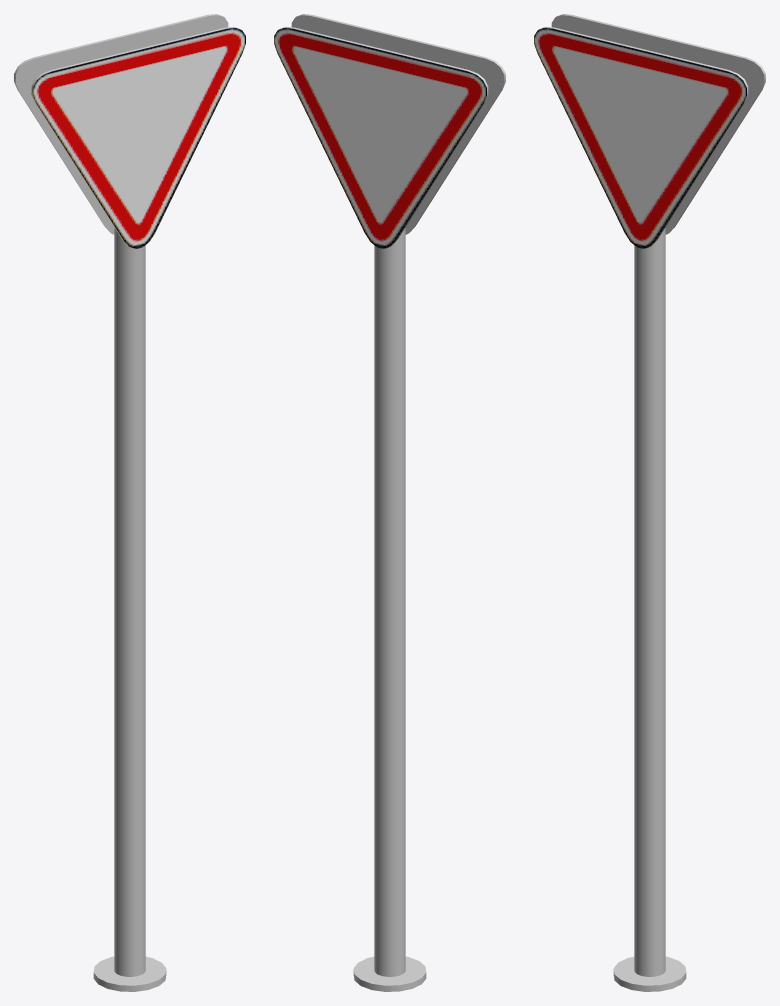
3 renders of one model, left to right at view 1: azimuth 30°, elevation 25°; view 2: azimuth 150°, elevation 25°; view 3: azimuth 330°, elevation 25°, orthographic.
Parts seen in each view (by area): view 1: 2-4; view 2: 2-4; view 3: 2-4.
Boxes of the visible parts, x1,y1,x2,y2 form: 2-4: (14, 14, 245, 991); 2-4: (274, 14, 505, 991); 2-4: (534, 14, 765, 991).
Bounding box in the file's own units: 77.56 × 325 × 23.17.
2 materials, 1 textured.
